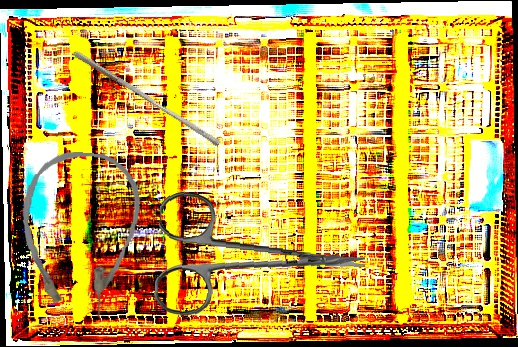Cannula: (13, 147, 145, 320)
Iris Scissors: (152, 189, 370, 330)
Pusher: (68, 49, 225, 148)
